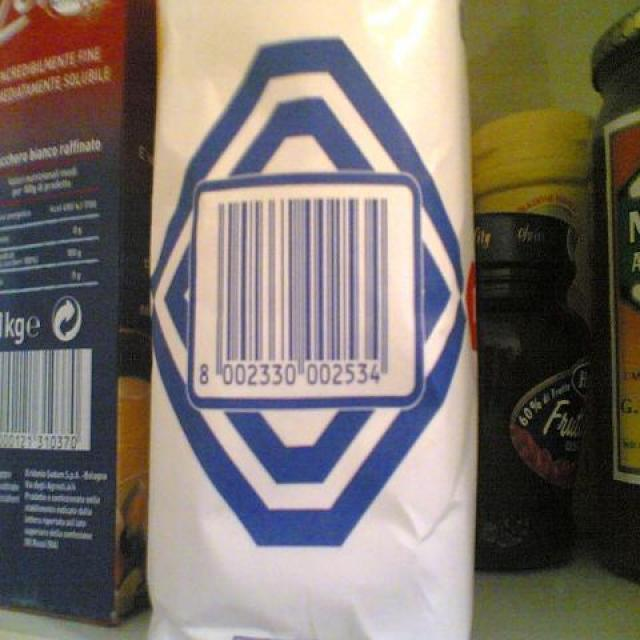Barcode: (196, 193, 401, 395)
